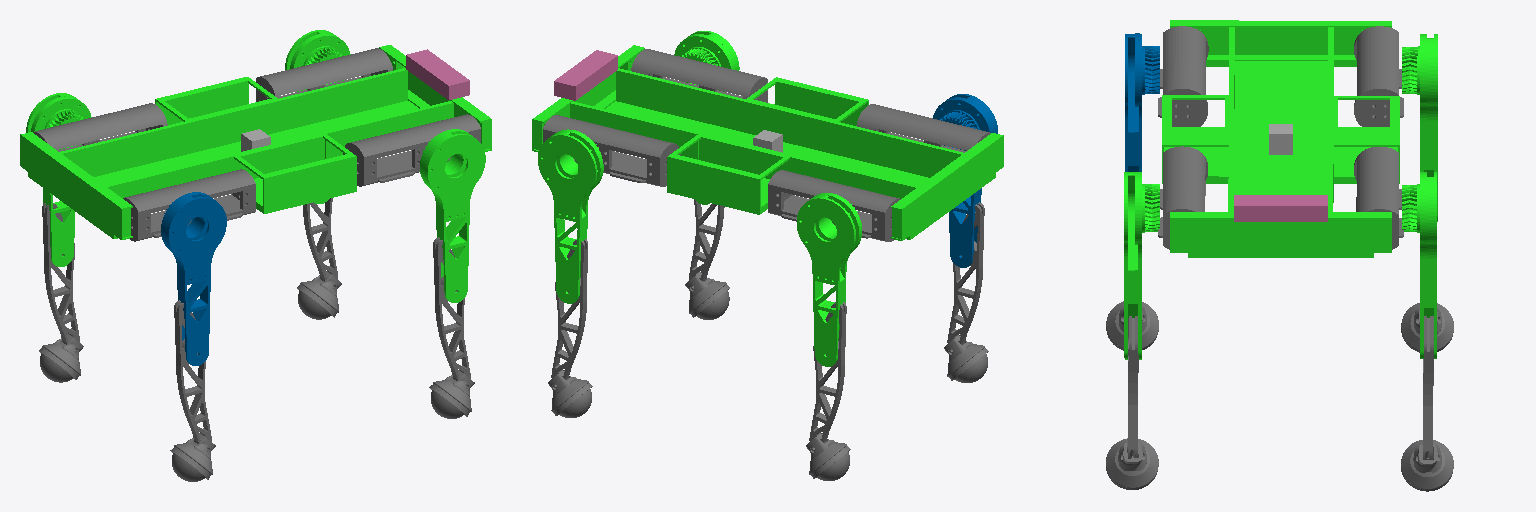
robot.urdf — polydog:
<?xml version="1.0"?>

<robot name="polydog">

  <!-- Define materials (optional) -->
  <material name="grey">
    <color rgba="0.5 0.5 0.5 1"/>
  </material>
  <material name="red">
    <color rgba="0.2 1 0.2 1"/>
  </material>
  <!-- Define the body link -->

  <link name="scanmatcher_frame">
  </link>
  <link name="dummy1">
  </link>
  <link name="dummy2">
  </link>
  <link name="dummy3">
  </link>
  <link name="dummy4">
  </link>
  <link name="body">
    <visual>
      <geometry>
        <mesh filename="package://polydog_description/meshes/body.obj" scale="1 1 1"/>
      </geometry>
      <origin xyz="0 0 0" rpy="0 -1.5708 0"/>
      <material name="red"/>
    </visual>
    <collision>
      <geometry>
        <mesh filename="package://polydog_description/meshes/body_collision.obj" scale="1 1 1"/>
      </geometry>
      <origin xyz="0 0 0" rpy="0 -1.5708 0"/>
    </collision>
    <inertial>
       <mass value="3.568279"/>
       <origin xyz="0 0 0"/>
       <inertia ixx="+0.01664" ixy="+2.083e-06" ixz="+7.089e-06" iyy="+0.01339" iyz="-1.299e-05" izz="+0.00358"/>
     </inertial>
  </link>
  
    <link name="depth_camera_link">
    <visual name="depth_camera">
      <origin xyz="0 0 0" rpy="0 0 0"/>
      <geometry>
        <box size="0.0235 0.08 0.015" />
      </geometry>
    </visual>
    <collision name="depth_camera">
      <origin xyz="0 0 0" rpy="0 0 0"/>
      <geometry>
        <box size="0.0235 0.08 0.015" />
      </geometry>
    </collision>

    <inertial>
      <mass value="1e-5" />
      <origin xyz="0 0 0" rpy="0 0 0"/>
      <inertia ixx="1.0" ixy="1e-6" ixz="1e-6" iyy="1.0" iyz="1e-6" izz="1.0" />
    </inertial>
  </link>
  
    <link name="imu_sensor_link">
        <collision>
            <origin xyz="0 0 0" rpy="0 0 0"/>
            <geometry>
                <box size="0.02 0.02 0.02"/>
            </geometry>
        </collision>
        <visual>
            <origin xyz="0 0 0" rpy="0 0 0"/>
            <geometry>
                <box size="0.02 0.02 0.02"/>
            </geometry>
        </visual>
        <inertial>
            <mass value="0.001" />
            <origin xyz="0 0 0" rpy="0 0 0"/>
            <inertia ixx="0.00000015" ixy="0" ixz="0" iyy="0.00000015" iyz="0" izz="0.00000015" />
        </inertial>
    </link>
    
  <!-- Define the femur link -->
  <link name="case1">
    <visual>
      <geometry>
        <mesh filename="package://polydog_description/meshes/case.obj" scale="1 1 1"/>
      </geometry>
      <material name="grey"/>
      <origin xyz="0 0 0" rpy="0 0 1.5708"/>
    </visual>
    <collision>
      <geometry>
        <mesh filename="package://polydog_description/meshes/case_collision.obj" scale="1 1 1"/>
      </geometry>
      <origin xyz="0 0 0" rpy="0 0 1.5708"/>
    </collision>
    <inertial>
      <mass value="0.189739"/>
      <origin xyz="0 0 0"/>
      <inertia ixx="+0.00148" ixy="-4.937e-06" ixz="+4.053e-09" iyy="+0.00148" iyz="+4.698e-07" izz="+0.00025"/>
    </inertial>
  </link>
  <link name="case2">
    <visual>
      <geometry>
        <mesh filename="package://polydog_description/meshes/case.obj" scale="1 1 1"/>
      </geometry>
      <material name="grey"/>
      <origin xyz="0 0 0" rpy="0 0 1.5708"/>
    </visual>
    <collision>
      <geometry>
        <mesh filename="package://polydog_description/meshes/case_collision.obj" scale="1 1 1"/>
      </geometry>
      <origin xyz="0 0 0" rpy="0 0 1.5708"/>
    </collision>
    <inertial>
      <mass value="0.189739"/>
      <origin xyz="0 0 0"/>
      <inertia ixx="+0.00148" ixy="-4.937e-06" ixz="+4.053e-09" iyy="+0.00148" iyz="+4.698e-07" izz="+0.00025"/>
    </inertial>
  </link>
  <link name="case3">

    <visual>
      <geometry>
        <mesh filename="package://polydog_description/meshes/case.obj" scale="1 1 1"/>
      </geometry>
      <material name="grey"/>
      <origin xyz="0 0 0" rpy="0 0 1.5708"/>
    </visual>
    <collision>
      <geometry>
        <mesh filename="package://polydog_description/meshes/case_collision.obj" scale="1 1 1"/>
      </geometry>
      <origin xyz="0 0 0" rpy="0 0 1.5708"/>
    </collision>
    <inertial>
      <mass value="0.189739"/>
      <origin xyz="0 0 0"/>
      <inertia ixx="+0.00148" ixy="-4.937e-06" ixz="+4.053e-09" iyy="+0.00148" iyz="+4.698e-07" izz="+0.00025"/>
    </inertial>
  </link>
  <link name="case4">
    <visual>
      <geometry>
        <mesh filename="package://polydog_description/meshes/case.obj" scale="1 1 1"/>
      </geometry>
      <material name="grey"/>
      <origin xyz="0 0 0" rpy="0 0 1.5708"/>
    </visual>
    <collision>
      <geometry>
        <mesh filename="package://polydog_description/meshes/case_collision.obj" scale="1 1 1"/>
      </geometry>
      <origin xyz="0 0 0" rpy="0 0 1.5708"/>
    </collision>
    <inertial>
      <mass value="0.189739"/>
      <origin xyz="0 0 0"/>
      <inertia ixx="+0.00148" ixy="-4.937e-06" ixz="+4.053e-09" iyy="+0.00148" iyz="+4.698e-07" izz="+0.00025"/>
    </inertial>
  </link>
  <link name="femur4">

    <visual>
      <geometry>
        <mesh filename="package://polydog_description/meshes/femur.obj" scale="1 1 1"/>
      </geometry>
      <origin xyz="0 0.054 -0.008" rpy="-0.15 0 0"/>
    </visual>
    <collision>
      <geometry>
        <mesh filename="package://polydog_description/meshes/femur_collision.obj" scale="1 1 1"/>
      </geometry>
      <origin xyz="0 0.054 -0.008" rpy="-0.15 0 0"/>
    </collision>
    <inertial>
      <mass value="0.18042"/>
      <origin xyz="0 0 0"/>
      <inertia ixx="+0.00198" ixy="+6.247e-05" ixz="-9.408e-06" iyy="+0.00028" iyz="+0.00024" izz="+0.00182"/>
    </inertial>
  </link>
  <link name="femur3">

    <visual>
      <geometry>
        <mesh filename="package://polydog_description/meshes/femur.obj" scale="1 1 1"/>
      </geometry>
      <material name="red"/>
      <origin xyz="0 0.054 -0.008" rpy="-0.15 0 0"/>
    </visual>
    <collision>
      <geometry>
        <mesh filename="package://polydog_description/meshes/femur_collision.obj" scale="1 1 1"/>
      </geometry>
      <origin xyz="0 0.054 -0.008" rpy="-0.15 0 0"/>
    </collision>
    <inertial>
      <mass value="0.18042"/>
      <origin xyz="0 0 0"/>
      <inertia ixx="+0.00198" ixy="+6.247e-05" ixz="-9.408e-06" iyy="+0.00028" iyz="+0.00024" izz="+0.00182"/>
    </inertial>
  </link>
  <link name="femur2">

    <visual>
      <geometry>
        <mesh filename="package://polydog_description/meshes/femur.obj" scale="1 1 1"/>
      </geometry>
      <material name="red"/>
      <origin xyz="0 0.054 -0.008" rpy="-0.15 0 0"/>
    </visual>
    <collision>
      <geometry>
        <mesh filename="package://polydog_description/meshes/femur_collision.obj" scale="1 1 1"/>
      </geometry>
      <origin xyz="0 0.054 -0.008" rpy="-0.15 0 0"/>
    </collision>
    <inertial>
      <mass value="0.18042"/>
      <origin xyz="0 0 0"/>
      <inertia ixx="+0.00198" ixy="+6.247e-05" ixz="-9.408e-06" iyy="+0.00028" iyz="+0.00024" izz="+0.00182"/>
    </inertial>
  </link>
  <link name="femur1">

    <visual>
      <geometry>
        <mesh filename="package://polydog_description/meshes/femur.obj" scale="1 1 1"/>
      </geometry>
      <material name="red"/>
      <origin xyz="0 0.054 -0.008" rpy="-0.15 0 0"/>
    </visual>
    <collision>
      <geometry>
        <mesh filename="package://polydog_description/meshes/femur_collision.obj" scale="1 1 1"/>
      </geometry>
      <origin xyz="0 0.054 -0.008" rpy="-0.15 0 0"/>
    </collision>
    <inertial>
      <mass value="0.18042"/>
      <origin xyz="0 0 0"/>
      <inertia ixx="+0.00198" ixy="+6.247e-05" ixz="-9.408e-06" iyy="+0.00028" iyz="+0.00024" izz="+0.00182"/>
    </inertial>
  </link>
  <link name="tibia1">

    <visual>
      <geometry>
        <mesh filename="package://polydog_description/meshes/tibia.obj" scale="1 1 1"/>
      </geometry>
      <material name="grey"/>
      <origin xyz="0.004 -0.004 -0.04" rpy="0 0.05 -0.7"/>
    </visual>
    <collision>
      <geometry>
        <mesh filename="package://polydog_description/meshes/tibia_collision.obj" scale="1 1 1"/>
      </geometry>
      <origin xyz="0.004 -0.004 -0.04" rpy="0 0.05 -0.7"/>
    </collision>
    <inertial>
      <mass value="0.083449"/>
      <origin xyz="-0.00019 -0.00223 -0.01482"/>
      <inertia ixx="+0.00219" ixy="+3.703e-07" ixz="+4.672e-06" iyy="+0.00214" iyz="+2.869e-05" izz="+1.000e-04"/>
    </inertial>
  </link>
  <link name="tibia2">

    <visual>
      <geometry>
        <mesh filename="package://polydog_description/meshes/tibia.obj" scale="1 1 1"/>
      </geometry>
      <material name="grey"/>
      <origin xyz="0.004 -0.004 -0.04" rpy="0 0.05 -0.7"/>
    </visual>
    <collision>
      <geometry>
        <mesh filename="package://polydog_description/meshes/tibia_collision.obj" scale="1 1 1"/>
      </geometry>
      <origin xyz="0.004 -0.004 -0.04" rpy="0 0.05 -0.7"/>
    </collision>
    <inertial>
      <mass value="0.083449"/>
      <origin xyz="-0.00019 -0.00223 -0.01482"/>
      <inertia ixx="+0.00219" ixy="+3.703e-07" ixz="+4.672e-06" iyy="+0.00214" iyz="+2.869e-05" izz="+1.000e-04"/>
    </inertial>
  </link>
  <link name="tibia3">

    <visual>
      <geometry>
        <mesh filename="package://polydog_description/meshes/tibia.obj" scale="1 1 1"/>
      </geometry>
      <material name="grey"/>
      <origin xyz="0.004 -0.004 -0.04" rpy="0 0.05 -0.7"/>
    </visual>
    <collision>
      <geometry>
        <mesh filename="package://polydog_description/meshes/tibia_collision.obj" scale="1 1 1"/>
      </geometry>
      <origin xyz="0.004 -0.004 -0.04" rpy="0 0.05 -0.7"/>
    </collision>
    <inertial>
      <mass value="0.083449"/>
      <origin xyz="-0.00019 -0.00223 -0.01482"/>
      <inertia ixx="+0.00219" ixy="+3.703e-07" ixz="+4.672e-06" iyy="+0.00214" iyz="+2.869e-05" izz="+1.000e-04"/>
    </inertial>
  </link>
  <link name="tibia4">

    <visual>
      <geometry>
        <mesh filename="package://polydog_description/meshes/tibia.obj" scale="1 1 1"/>
      </geometry>
      <material name="grey"/>
      <origin xyz="0.004 -0.004 -0.04" rpy="0 0.05 -0.7"/>
    </visual>
    <collision>
      <geometry>
        <mesh filename="package://polydog_description/meshes/tibia_collision.obj" scale="1 1 1"/>
      </geometry>
      <origin xyz="0.004 -0.004 -0.04" rpy="0 0.05 -0.7"/>
    </collision>
    <inertial>
      <mass value="0.083449"/>
      <origin xyz="-0.00019 -0.00223 -0.01482"/>
      <inertia ixx="+0.00219" ixy="+3.703e-07" ixz="+4.672e-06" iyy="+0.00214" iyz="+2.869e-05" izz="+1.000e-04"/>
    </inertial>
  </link>



  <!-- Define the joints -->
  <joint name="depth_camera_joint" type="fixed">
    <axis xyz="0 0 0" />
    <origin xyz="0 -0.197 0.0265" rpy="0 0 -1.57"/>
    <parent link="body"/>
    <child link="depth_camera_link"/>
  </joint>
  <joint name="imu_sensor_joint" type="fixed">
    <axis xyz="0 0 0" />
    <origin xyz="0 0 0" rpy="0 0 0"/>
    <parent link="body"/>
    <child link="imu_sensor_link"/>
  </joint>
  <joint name="RL1_joint" type="revolute">
    <axis xyz="0 0 1"  />
    <limit effort="10" lower="-3" upper="+3" velocity="6" />
    <parent link="body"/>
    <child link="case1"/>
    <origin xyz="0.084 0.122 0" rpy="1.5708 0 0"/>
  </joint>
  <joint name="FL1_joint" type="revolute">
    <axis xyz="0 0 1"  />
    <limit effort="10" lower="-3" upper="3" velocity="6" />
    <parent link="body"/>
    <child link="case2"/>
    <origin xyz="0.084 -0.122 0" rpy="1.5708 0 0"/>
  </joint>
  <joint name="FR1_joint" type="revolute">
    <axis xyz="0 0 1"  />
    <limit effort="10" lower="-3" upper="3" velocity="6" />
    <parent link="body"/>
    <child link="case3"/>
    <origin xyz="-0.084 -0.122 0" rpy="1.5708 0 3.14"/>
  </joint>
  <joint name="RR1_joint" type="revolute">
    <axis xyz="0 0 1"  />
    <limit effort="10" lower="-3" upper="3" velocity="6" />
    <parent link="body"/>
    <child link="case4"/>
    <origin xyz="-0.084 0.122 0" rpy="1.5708 0 3.14"/>
  </joint>
  <joint name="RR2_joint" type="revolute">
    <axis xyz="1 0 0"  />
    <limit effort="10" lower="-3" upper="3" velocity="6" />
    <parent link="case4"/>
    <child link="femur4"/>
    <origin xyz="0.035 0 0.018" rpy="3.14 3.14 0"/>
  </joint>
  <joint name="FR2_joint" type="revolute">
    <axis xyz="1 0 0"  />
    <limit effort="10" lower="-3" upper="3" velocity="6" />
    <parent link="case3"/>
    <child link="femur3"/>
    <origin xyz="0.035 0 -0.018" rpy="3.14 3.14 0"/>
  </joint>
  <joint name="FL2_joint" type="revolute">
    <axis xyz="1 0 0"  />
    <limit effort="10" lower="-3" upper="3" velocity="6" />
    <parent link="case2"/>
    <child link="femur2"/>
    <origin xyz="0.035 0 0.018" rpy="3.14 3.14 0"/>
  </joint>
  <joint name="RL2_joint" type="revolute">
    <axis xyz="1 0 0"  />
    <limit effort="10" lower="-3" upper="3" velocity="6" />
    <parent link="case1"/>
    <child link="femur1"/>
    <origin xyz="0.035 0 -0.018" rpy="-3.14 3.14 0"/>
  </joint>
  <joint name="RL3_joint" type="revolute">
    <axis xyz="1 0 0"  />
    <limit effort="10" lower="-3" upper="3" velocity="6" />
    <parent link="femur1"/>
    <child link="tibia1"/>
    <origin xyz="-0.0075 0.129 0.0015" rpy="1.57 0 0"/>
  </joint>
  <joint name="FL3_joint" type="revolute">
    <axis xyz="1 0 0"  />
    <limit effort="10" lower="-3" upper="3" velocity="6" />
    <parent link="femur2"/>
    <child link="tibia2"/>
    <origin xyz="-0.0075 0.129 0.0015" rpy="1.57 0 0"/>
  </joint>
  <joint name="FR3_joint" type="revolute">
    <axis xyz="1 0 0"  />
    <limit effort="10" lower="-3" upper="3" velocity="6" />
    <parent link="femur3"/>
    <child link="tibia3"/>
    <origin xyz="-0.0075 0.129 0.0015" rpy="1.57 3.14 0"/>
  </joint>
  <joint name="RR3_joint" type="revolute">
    <axis xyz="1 0 0"  />
    <limit effort="10" lower="-3" upper="3" velocity="6" />
    <parent link="femur4"/>
    <child link="tibia4"/>
    <origin xyz="-0.0075 0.129 0.0015" rpy="1.57 3.14 0"/>
  </joint>
  <joint name="dummy0_to_body" type="fixed">
    <parent link="scanmatcher_frame"/>
    <child link="body"/>
    <origin xyz="0 0 0.20" rpy="0 0 1.57"/>
  </joint>
  <joint name="tibia1_to_dummy1" type="fixed">
    <parent link="tibia1"/>
    <child link="dummy1"/>
    <origin xyz="0 -0.017 -0.125" rpy="3.14 0 0"/>
  </joint>
  <joint name="tibia2_to_dummy2" type="fixed">
    <parent link="tibia2"/>
    <child link="dummy2"/>
    <origin xyz="0 -0.017 -0.125" rpy="3.14 0 0"/>
  </joint>
  <joint name="tibia3_to_dummy3" type="fixed">
    <parent link="tibia3"/>
    <child link="dummy3"/>
    <origin xyz="0 -0.017 -0.125" rpy="3.14 0 0"/>
  </joint>
  <joint name="tibia4_to_dummy4" type="fixed">
    <parent link="tibia4"/>
    <child link="dummy4"/>
    <origin xyz="0 -0.017 -0.125" rpy="3.14 0 0"/>
  </joint>
  <gazebo reference="body">
    <material>Gazebo/Grey</material>
  </gazebo>
  <gazebo reference="case1">
    <material>Gazebo/Red</material>
  </gazebo>
  <gazebo reference="case2">
    <material>Gazebo/Red</material>
  </gazebo>
  <gazebo reference="case3">
    <material>Gazebo/Red</material>
  </gazebo>
  <gazebo reference="case4">
    <material>Gazebo/Red</material>
  </gazebo>
  <gazebo reference="femur1">
    <material>Gazebo/Red</material>
  </gazebo>
  <gazebo reference="femur2">
    <material>Gazebo/Red</material>
  </gazebo>
  <gazebo reference="femur3">
    <material>Gazebo/Red</material>
  </gazebo>
  <gazebo reference="femur4">
    <material>Gazebo/Red</material>
  </gazebo>
  <gazebo reference="tibia1">
    <material>Gazebo/Black</material>
  </gazebo>
  <gazebo reference="tibia2">
    <material>Gazebo/Black</material>
  </gazebo>
  <gazebo reference="tibia3">
    <material>Gazebo/Black</material>
  </gazebo>
  <gazebo reference="tibia4">
    <material>Gazebo/Black</material>
  </gazebo>
  <gazebo reference="imu_sensor_link">
    <material>Gazebo/Red</material>
  </gazebo>
  
  <gazebo reference="depth_camera_link">
    <sensor type="depth" name="camera">
      <origin xyz="0 0 0" rpy="0 0 0"/>
      <visualize>1</visualize>
      <update_rate>40</update_rate>

        <plugin name="camera_plugin" filename="libgazebo_ros_openni_kinect.so">
          <baseline>0.2</baseline>
          <alwaysOn>true</alwaysOn>
          <!-- Keep this zero, update_rate in the parent <sensor> tag
            will control the frame rate. -->
          <updateRate>0.0</updateRate>
          <cameraName>camera_ir</cameraName>
          <robotNamespace>/</robotNamespace>
          <imageTopicName>/camera/depth/image_raw</imageTopicName>
          <cameraInfoTopicName>/camera/depth/camera_info</cameraInfoTopicName>
          <depthImageTopicName>/camera/depth/image_raw</depthImageTopicName>
          <depthImageInfoTopicName>/camera/depth/camera_info</depthImageInfoTopicName>
          <pointCloudTopicName>/camera/depth/points</pointCloudTopicName>
          <frameName>camera_image_link</frameName>
          <pointCloudCutoff>0.05</pointCloudCutoff>
          <distortionK1>0</distortionK1>
          <distortionK2>0</distortionK2>
          <distortionK3>0</distortionK3>
          <distortionT1>0</distortionT1>
          <distortionT2>0</distortionT2>
          <CxPrime>0</CxPrime>
          <Cx>0</Cx>
          <Cy>0</Cy>
          <focalLength>0</focalLength>
          <hackBaseline>0</hackBaseline>
        </plugin>
    </sensor>
    <static>true</static>
  </gazebo>
  
  <gazebo reference="imu_sensor_link">
    <gravity>1</gravity>
    <sensor name="imu_sensor" type="imu">
      <always_on>1</always_on>
      <update_rate>100</update_rate>
      <visualize>1</visualize>
      <topic>__default_topic__</topic>
      <plugin filename="libgazebo_ros_imu_sensor.so" name="imu_plugin">
        <topicName>imu</topicName>
        <bodyName>imu_sensor_link</bodyName>
        <updateRateHZ>10.0</updateRateHZ>
        <gaussianNoise>0.0</gaussianNoise>
        <xyzOffset>0 0 0</xyzOffset>
        <rpyOffset>0 0 0</rpyOffset>
        <frameName>imu_sensor_link</frameName>
        <initialOrientationAsReference>0</initialOrientationAsReference>
      </plugin>
      <pose>0 0 0 0 0 0</pose>
    </sensor>
  </gazebo>
  <gazebo>
    <plugin name="gazebo_ros_control" filename="libgazebo_ros_control.so">
      <robotNamespace>/polydog_controller</robotNamespace>
    </plugin>
  </gazebo>
  <gazebo>
    <plugin name="joint_state_publisher" filename="libgazebo_ros_joint_state_publisher.so">
      <robotNamespace>/polydog_controller</robotNamespace>
        <jointName>FR1_joint, FR2_joint, FR3_joint, FL1_joint, FL2_joint, FL3_joint, RR1_joint, RR2_joint, RR3_joint, RL1_joint, RL2_joint, RL3_joint</jointName>
        <updateRate>100</updateRate>
    </plugin>
  </gazebo>
  <transmission name="trans11">
    <type>transmission_interface/SimpleTransmission</type>
    <joint name="FR1_joint">
      <hardwareInterface>hardware_interface/EffortJointInterface</hardwareInterface>
    </joint>
    <actuator name="motor11">
      <mechanicalReduction>5</mechanicalReduction>
      <hardwareInterface>hardware_interface/EffortJointInterface</hardwareInterface>
    </actuator>
  </transmission>
  <transmission name="trans12">
    <type>transmission_interface/SimpleTransmission</type>
    <joint name="FR2_joint">
      <hardwareInterface>hardware_interface/EffortJointInterface</hardwareInterface>
    </joint>
    <actuator name="motor12">
      <mechanicalReduction>5</mechanicalReduction>
      <hardwareInterface>hardware_interface/EffortJointInterface</hardwareInterface>
    </actuator>
  </transmission>
  <transmission name="trans13">
    <type>transmission_interface/SimpleTransmission</type>
    <joint name="FR3_joint">
      <hardwareInterface>hardware_interface/EffortJointInterface</hardwareInterface>
    </joint>
    <actuator name="motor13">
      <mechanicalReduction>5</mechanicalReduction>
      <hardwareInterface>hardware_interface/EffortJointInterface</hardwareInterface>
    </actuator>
  </transmission>
  <transmission name="trans21">
    <type>transmission_interface/SimpleTransmission</type>
    <joint name="FL1_joint">
      <hardwareInterface>hardware_interface/EffortJointInterface</hardwareInterface>
    </joint>
    <actuator name="motor21">
      <mechanicalReduction>5</mechanicalReduction>
      <hardwareInterface>hardware_interface/EffortJointInterface</hardwareInterface>
    </actuator>
  </transmission>
  <transmission name="trans22">
    <type>transmission_interface/SimpleTransmission</type>
    <joint name="FL2_joint">
      <hardwareInterface>hardware_interface/EffortJointInterface</hardwareInterface>
    </joint>
    <actuator name="motor22">
      <mechanicalReduction>5</mechanicalReduction>
      <hardwareInterface>hardware_interface/EffortJointInterface</hardwareInterface>
    </actuator>
  </transmission>
  <transmission name="trans23">
    <type>transmission_interface/SimpleTransmission</type>
    <joint name="FL3_joint">
      <hardwareInterface>hardware_interface/EffortJointInterface</hardwareInterface>
    </joint>
    <actuator name="motor23">
      <mechanicalReduction>5</mechanicalReduction>
      <hardwareInterface>hardware_interface/EffortJointInterface</hardwareInterface>
    </actuator>
  </transmission>
  <transmission name="trans31">
    <type>transmission_interface/SimpleTransmission</type>
    <joint name="RR1_joint">
      <hardwareInterface>hardware_interface/EffortJointInterface</hardwareInterface>
    </joint>
    <actuator name="motor31">
      <mechanicalReduction>5</mechanicalReduction>
      <hardwareInterface>hardware_interface/EffortJointInterface</hardwareInterface>
    </actuator>
  </transmission>
  <transmission name="trans32">
    <type>transmission_interface/SimpleTransmission</type>
    <joint name="RR2_joint">
      <hardwareInterface>hardware_interface/EffortJointInterface</hardwareInterface>
    </joint>
    <actuator name="motor32">
      <mechanicalReduction>5</mechanicalReduction>
      <hardwareInterface>hardware_interface/EffortJointInterface</hardwareInterface>
    </actuator>
  </transmission>
  <transmission name="trans33">
    <type>transmission_interface/SimpleTransmission</type>
    <joint name="RR3_joint">
      <hardwareInterface>hardware_interface/EffortJointInterface</hardwareInterface>
    </joint>
    <actuator name="motor33">
      <mechanicalReduction>5</mechanicalReduction>
      <hardwareInterface>hardware_interface/EffortJointInterface</hardwareInterface>
    </actuator>
  </transmission>
  <transmission name="trans41">
    <type>transmission_interface/SimpleTransmission</type>
    <joint name="RL1_joint">
      <hardwareInterface>hardware_interface/EffortJointInterface</hardwareInterface>
    </joint>
    <actuator name="motor41">
      <mechanicalReduction>5</mechanicalReduction>
      <hardwareInterface>hardware_interface/EffortJointInterface</hardwareInterface>
    </actuator>
  </transmission>
  <transmission name="trans42">
    <type>transmission_interface/SimpleTransmission</type>
    <joint name="RL2_joint">
      <hardwareInterface>hardware_interface/EffortJointInterface</hardwareInterface>
    </joint>
    <actuator name="motor42">
      <mechanicalReduction>5</mechanicalReduction>
      <hardwareInterface>hardware_interface/EffortJointInterface</hardwareInterface>
    </actuator>
  </transmission>
  <transmission name="trans43">
    <type>transmission_interface/SimpleTransmission</type>
    <joint name="RL3_joint">
      <hardwareInterface>hardware_interface/EffortJointInterface</hardwareInterface>
    </joint>
    <actuator name="motor43">
      <mechanicalReduction>5</mechanicalReduction>
      <hardwareInterface>hardware_interface/EffortJointInterface</hardwareInterface>
    </actuator>
  </transmission>




</robot>

--- Facts derived from the render (not from the file) ---
Views: 3 orthographic renders of the robot side by side, from view 1: azimuth 30°, elevation 25°; view 2: azimuth 150°, elevation 25°; view 3: azimuth 270°, elevation 25°.
Model polydog with 20 links and 19 joints (12 revolute, 7 fixed), rooted at scanmatcher_frame, posed all joints at 0.
Visible links, largest first — view 1: body, femur4, femur3, case3, case4, tibia3, tibia4, tibia1, case2, femur1, case1, tibia2 (+2 smaller); view 2: body, femur2, femur1, case2, case1, tibia4, tibia1, tibia2, case3, femur4, case4, tibia3 (+2 smaller); view 3: body, case4, case1, femur3, femur2, tibia2, tibia3, femur1, femur4, case3, case2, depth_camera_link (+3 smaller).
Link boxes in pixels (x1,y1,x2,y2): body: (20,45,491,239); femur4: (161,192,226,365); femur3: (420,129,485,302); case3: (343,114,480,186); case4: (123,169,255,241); tibia3: (429,237,474,418); tibia4: (170,300,215,481); tibia1: (39,203,83,382); case2: (256,48,392,101); femur1: (26,93,91,266); case1: (33,103,167,151); tibia2: (297,198,341,319); body: (532,45,1003,240); femur2: (538,129,603,303); femur1: (797,193,861,366); case2: (543,115,680,186); case1: (768,170,900,241); tibia4: (944,202,988,382); tibia1: (806,302,850,480); tibia2: (548,239,592,417); case3: (631,49,767,102); femur4: (933,94,997,267); case4: (856,104,990,152); tibia3: (685,199,729,319); body: (1162,20,1399,257); case4: (1158,26,1208,126); case1: (1354,26,1403,126); femur3: (1124,172,1159,359); femur2: (1402,172,1436,358); tibia2: (1401,316,1453,491); tibia3: (1106,316,1158,489); femur1: (1402,34,1437,221); femur4: (1125,33,1159,171); case3: (1158,146,1207,249); case2: (1354,147,1403,249); depth_camera_link: (1234,195,1327,221).
Bounding box of the posed robot: 0.4088 × 0.2988 × 0.2961 m (x, y, z).
Meshes: 4 distinct files referenced, 13 mesh visuals loaded (4 OBJ).